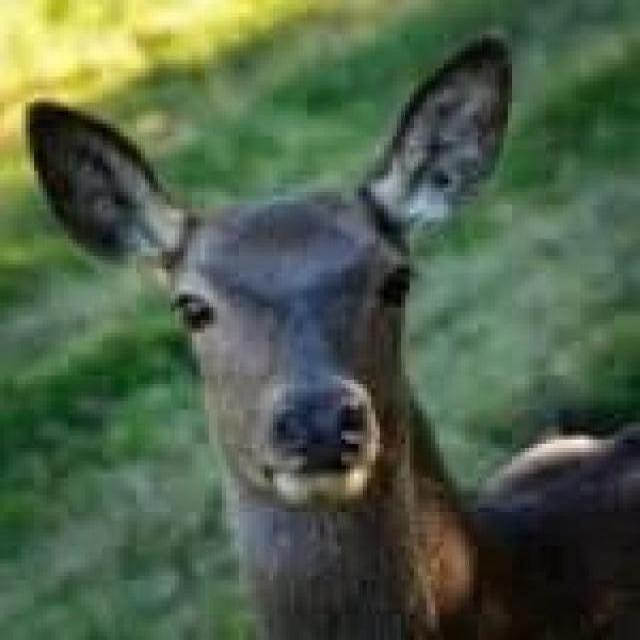deer: (60, 92, 640, 640)
